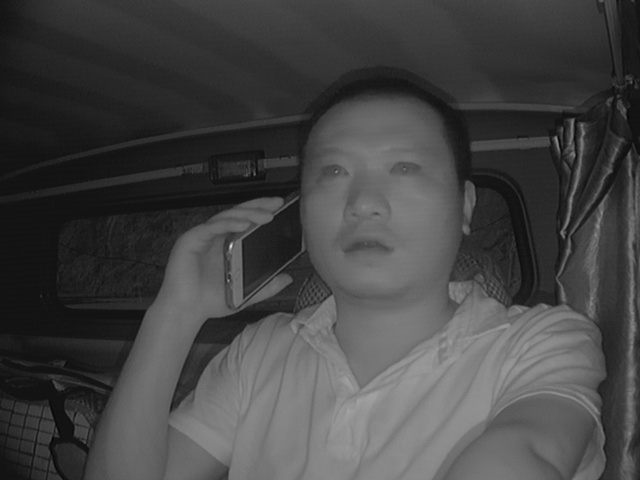hand: (169, 197, 292, 313)
